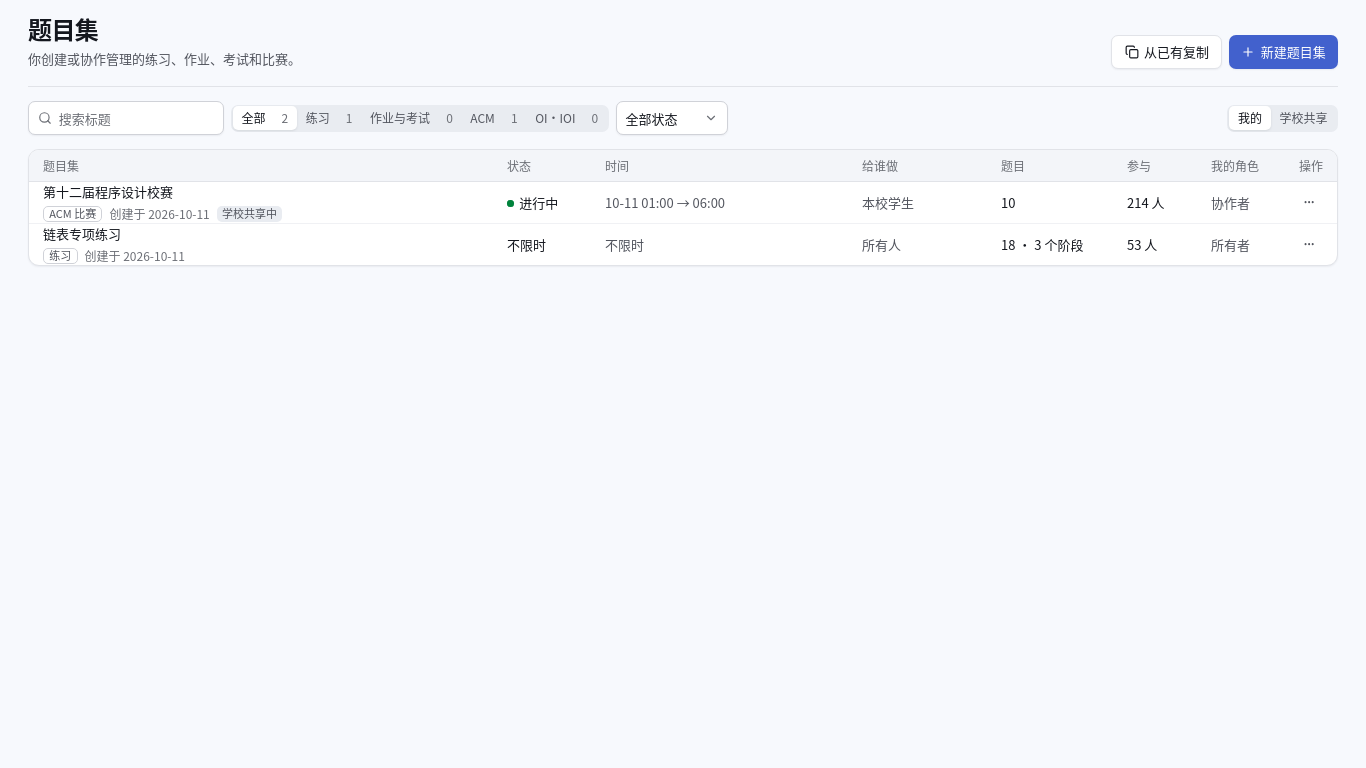
teach list page › opens the copy dialog from the header
The width and height of the screenshot is (1366, 768).
Click the button "从已有复制": (1167,52) [1112,35,1222,69]
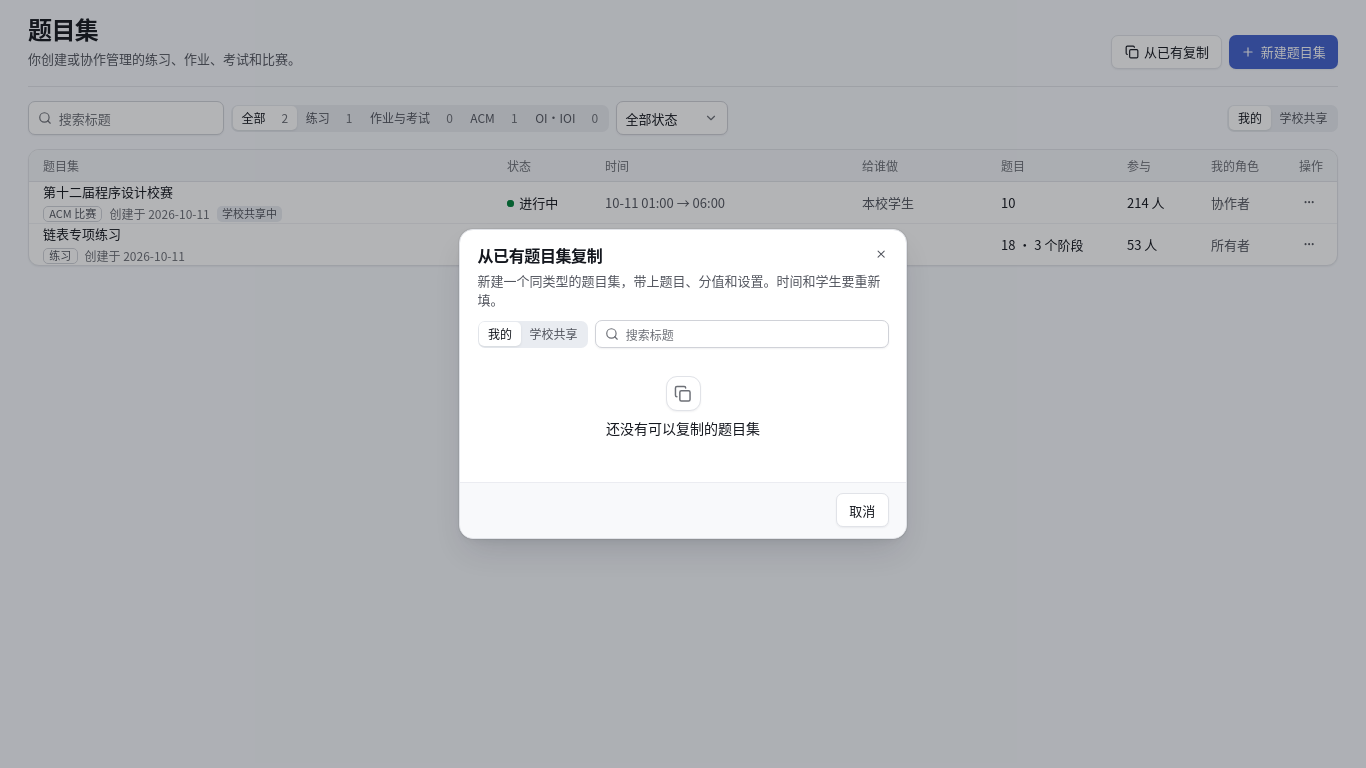
Now the text "新建一个同类型的题目集，带上题目、分值和设置。时间和学生要重新填。" is shown, box [478,271,888,310]
